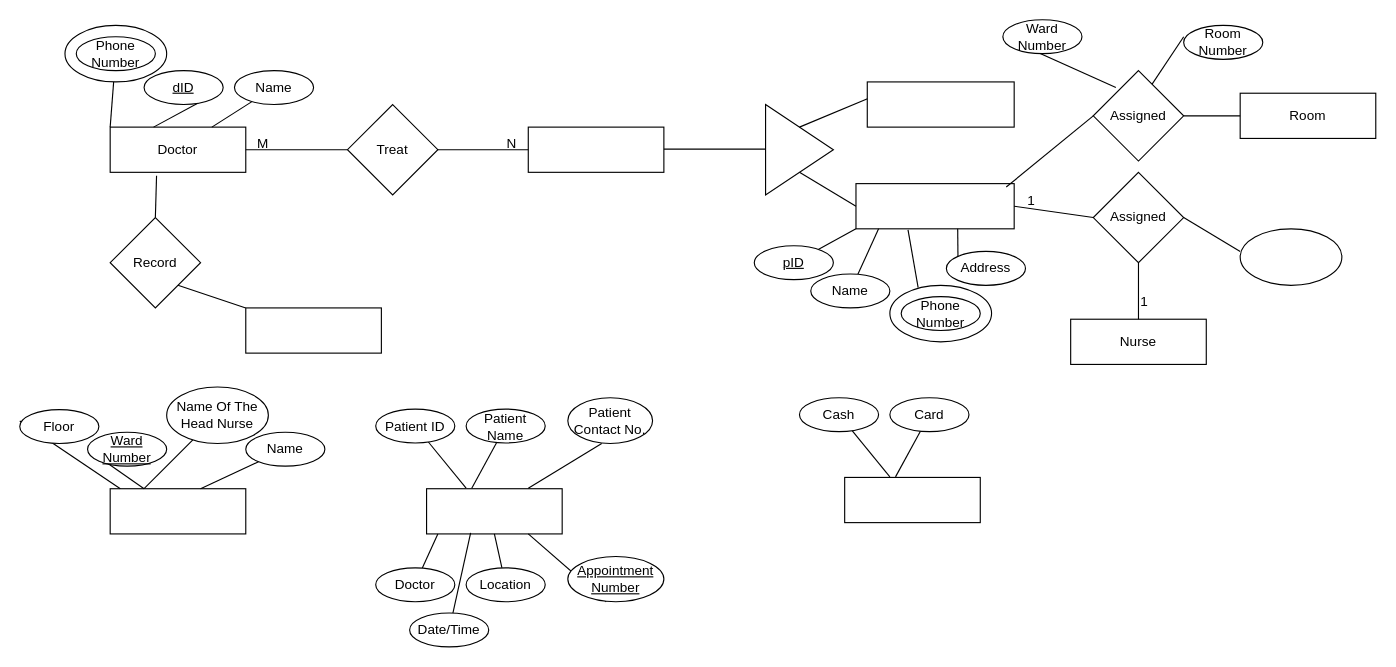
This 1396x667 diagram has some shape labels left out. The centre of each missing label's shape, as x and y in pixels:
Admitted Patients: pixel 934 205
Appointments: pixel 493 511
Diagnosis: pixel 313 330
Name Of The Nurse Assigned: pixel 1290 256
Out Patients: pixel 940 104
Patient: pixel 595 149
Payments: pixel 912 499
Ward: pixel 177 511
